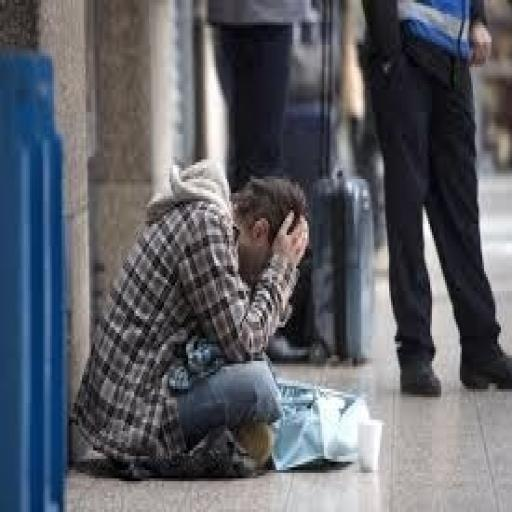sleeping: (69, 154, 313, 481)
